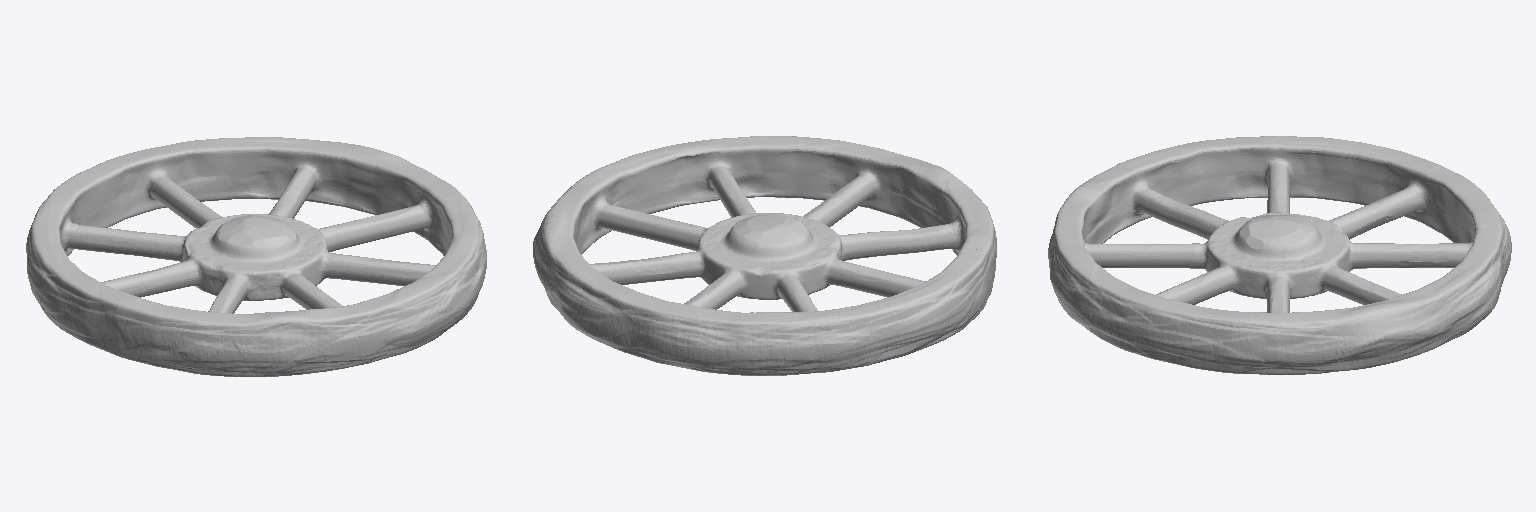
File: wheelhp.OBJ
The picture shows the model from 3 angles: view 1: azimuth 30°, elevation 25°; view 2: azimuth 150°, elevation 25°; view 3: azimuth 270°, elevation 25°; orthographic projection.
Parts seen in each view (by area): view 1: Group25872; view 2: Group25872; view 3: Group25872.
Boxes of the visible parts, x1=… form: Group25872: x1=26, y1=137, x2=486, y2=376; Group25872: x1=533, y1=136, x2=996, y2=375; Group25872: x1=1048, y1=136, x2=1511, y2=374.
Size of the model in its own units: 50.29 by 7.65 by 50.34.